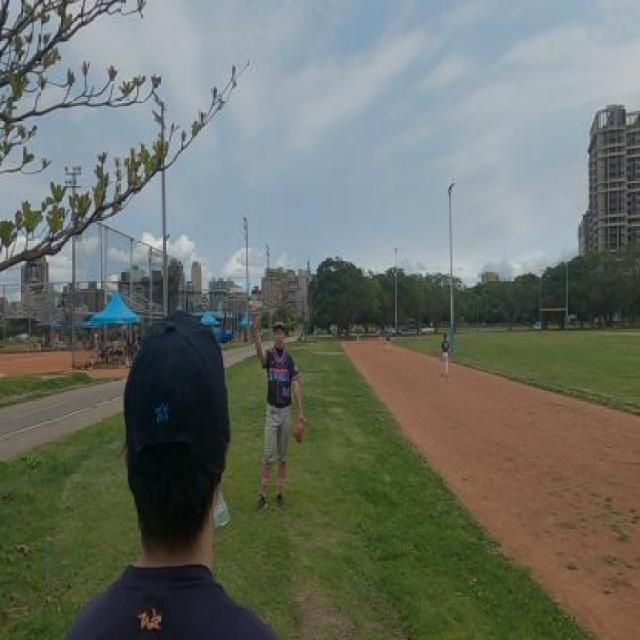baseball: (249, 300, 253, 308)
